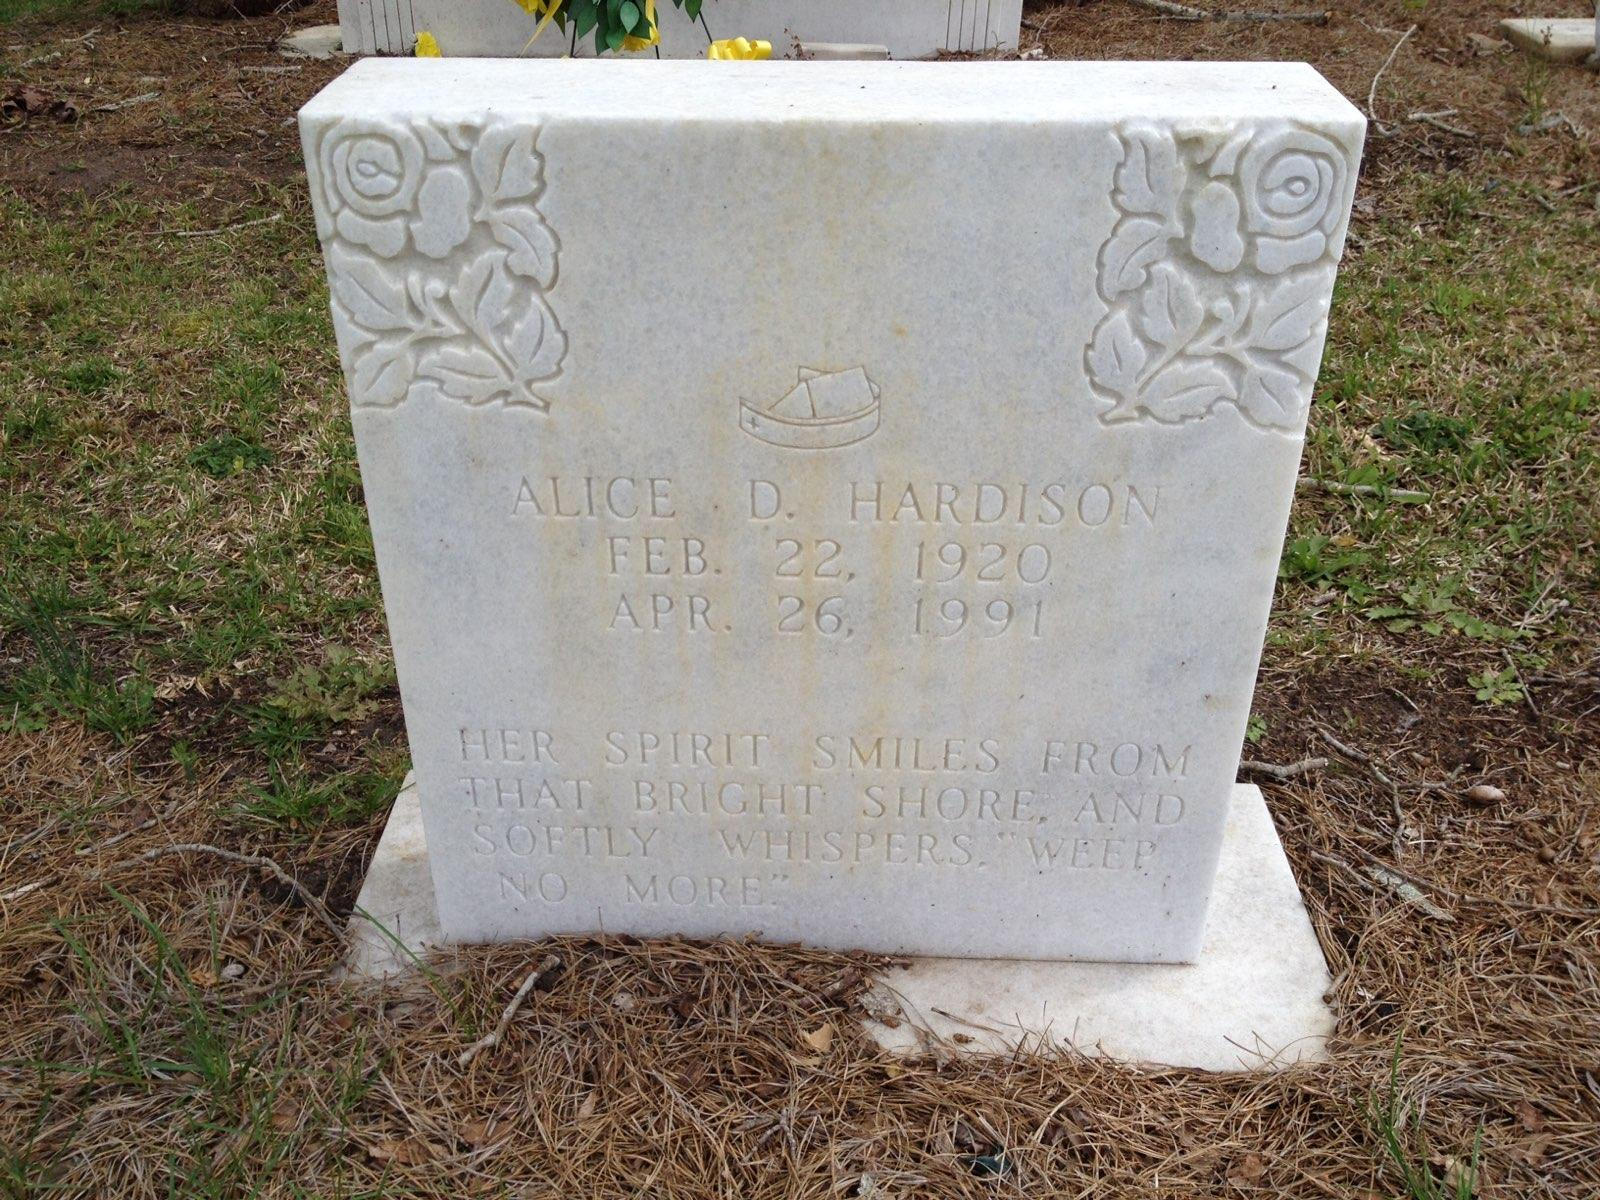upright: (280, 20, 1425, 1121)
